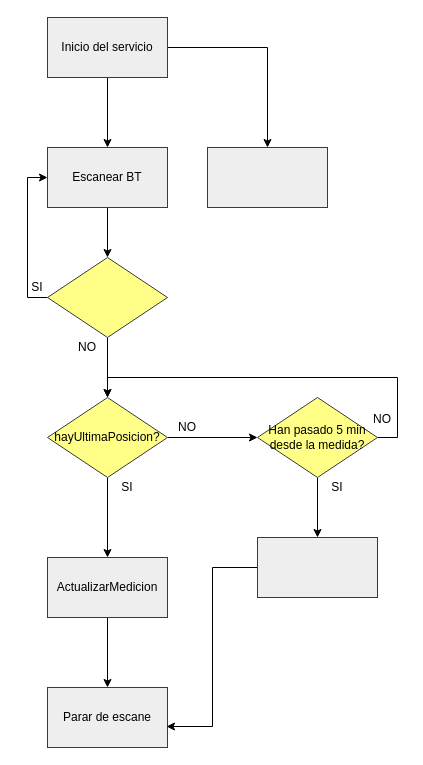
Image size: 423x765. Some labels were removed from this diagram. The shapes that lost their labels are listed below. From the top down, each one's centre as x and y in pixels, then its label:
At (x=267, y=177): "Obtenemos posicion GPS".
At (x=107, y=297): "laTrama = nul?".
At (x=317, y=567): "Descartar trama".
